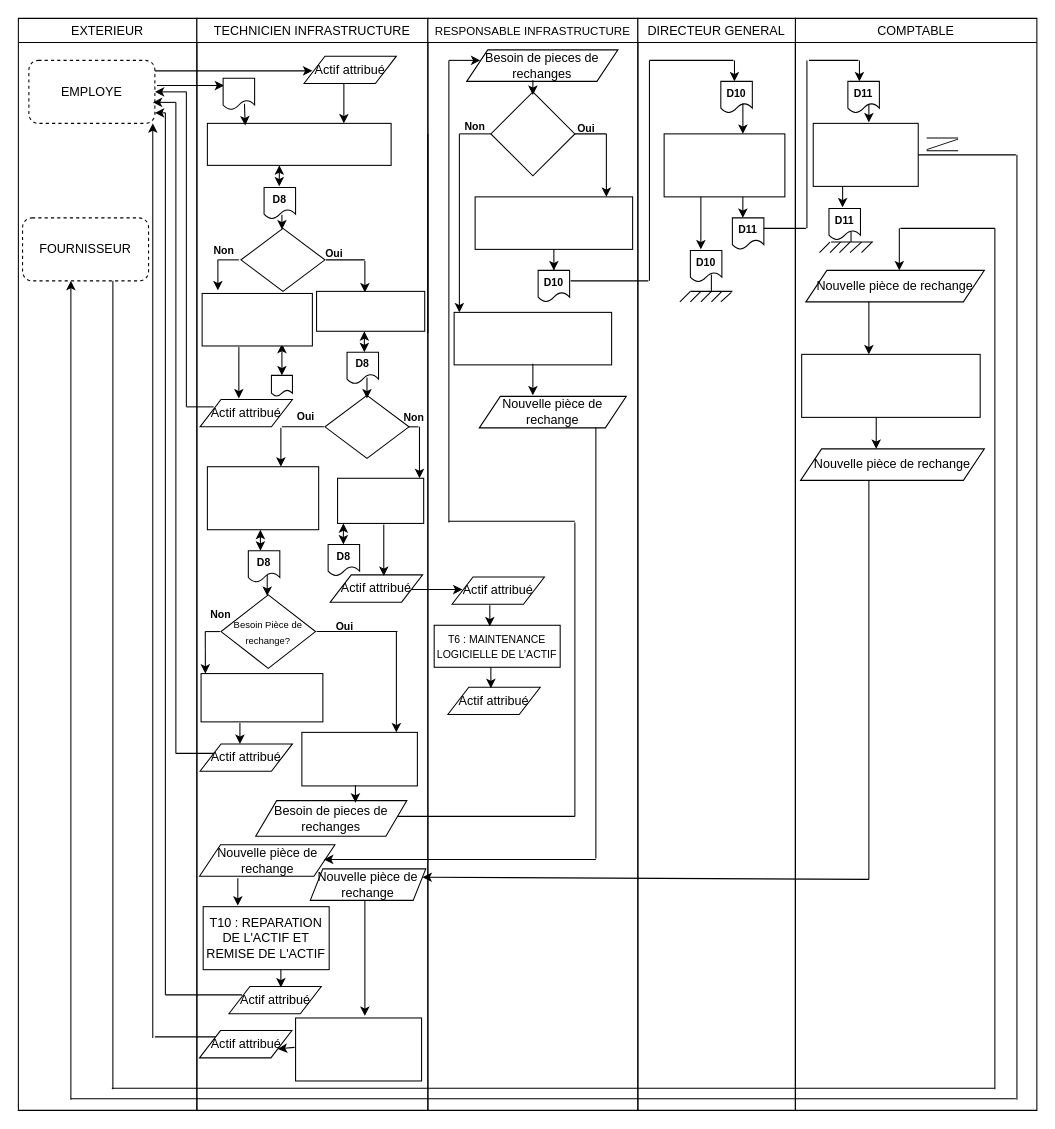
This 1055x1129 diagram has some shape labels left out. The centre of each missing label's shape, as x and y in pixels:
"Actif reparable?" goes at point 282,259.
"D5" goes at point 281,385.
"D9" goes at point 238,93.
"Maintenance materielle?" goes at point 366,426.
"Piece de rechange absente?" goes at point 532,133.
"T1 : DIAGNOSTIC DE L’ACTIF ET REMPLISSAGE DU REGISTRE MAINTENANCE" goes at point 298,143.
"T11 : SAISI ET ENVOI DU MAIL DE BESOIN" goes at point 553,222.
"T12 : EDITION ET TRANSMISSION DE L’AUTORISATION D’ACHAT" goes at point 724,165.
"T13: COMMANDE DE LA NOUVELLE PIECE DE RECHANGE" goes at point 865,154.
"T14 : TRANSMISSION DE LA NOUVELLE PIECE DE RECHANGE" goes at point 890,385.
"T15 : REPARATION DE L'ACTIF ET REMISE DE L'ACTIF" goes at point 358,1049.
"T2 : ATTRIBUTION D’UN NOUVEL ACTIF INFORMATIQUE" goes at point 256,319.
"T3: DETERMINATION DU TYPE DE PANNE" goes at point 370,310.
"T4: DETERMINATION DU NECESSAIRE POUR LA REPARATION" goes at point 262,498.
"T5: TRANSMISSION DE L'ACTIF" goes at point 380,500.
"T7 : MAINTENANCE ET REMISE DE L’ACTIF INFORMATIQUE" goes at point 261,697.
"T8: TRANSMISSION DU BESOIN DE PIECE DE RECHANGE" goes at point 359,758.
"T9 : TRANSMISSION DE LA PIECE DE RECHANGE" goes at point 532,338.
